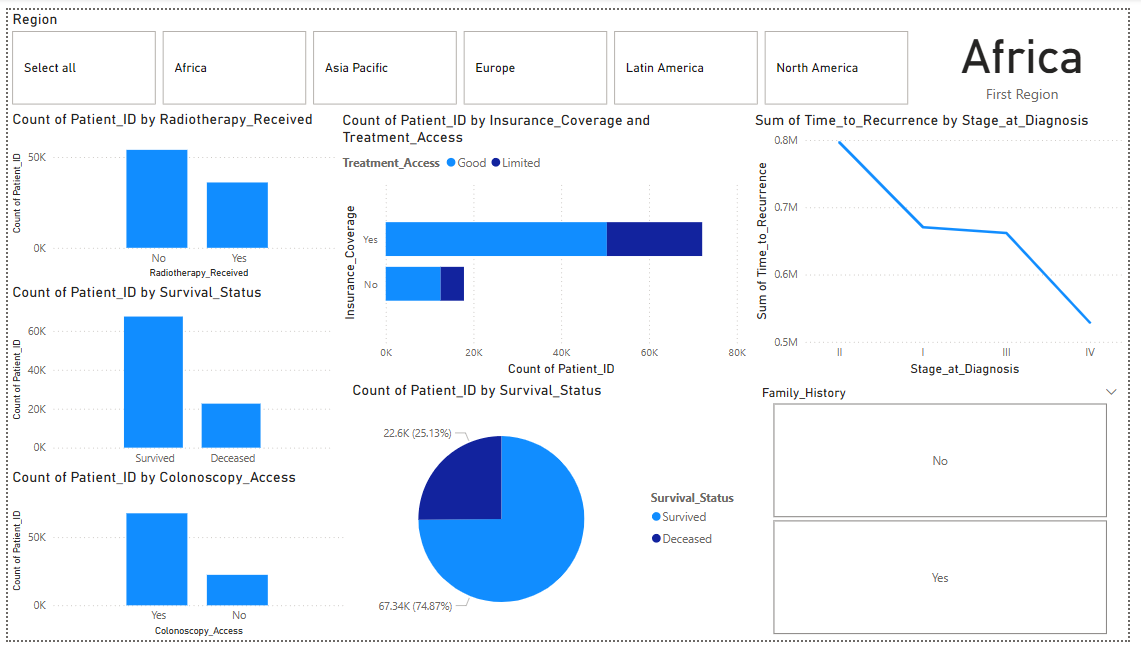

The dashboard page shown, as its layout file describes it:
{"tool":"powerbi","page":{"name":"Page 2","canvas":[1280,720],"ordinal":1},"visuals":[{"type":"card","fields":{"Values":["Min(colorectal_cancer_prediction.Region)"]},"box":[1038.8,0,241.2,113.8],"z":0},{"type":"advancedSlicerVisual","fields":{"Values":["colorectal_cancer_prediction.Region"]},"box":[0,0,1038.8,113.8],"z":1000},{"type":"clusteredColumnChart","fields":{"Y":["CountNonNull(colorectal_cancer_prediction.Patient_ID)"],"Category":["colorectal_cancer_prediction.Radiotherapy_Received"]},"box":[0,113.8,388.8,197.5],"z":2000},{"type":"clusteredColumnChart","fields":{"Y":["CountNonNull(colorectal_cancer_prediction.Patient_ID)"],"Category":["colorectal_cancer_prediction.Survival_Status"]},"box":[0,311.2,377.5,228.8],"z":3000},{"type":"clusteredColumnChart","fields":{"Y":["CountNonNull(colorectal_cancer_prediction.Patient_ID)"],"Category":["colorectal_cancer_prediction.Colonoscopy_Access"]},"box":[0,522.5,388.8,197.5],"z":4000},{"type":"barChart","fields":{"Y":["CountNonNull(colorectal_cancer_prediction.Patient_ID)"],"Category":["colorectal_cancer_prediction.Insurance_Coverage"],"Series":["colorectal_cancer_prediction.Treatment_Access"]},"box":[377.5,116.2,471.2,307.5],"z":5000},{"type":"pieChart","fields":{"Y":["CountNonNull(colorectal_cancer_prediction.Patient_ID)"],"Category":["colorectal_cancer_prediction.Survival_Status"]},"box":[388.8,423.8,460,296.2],"z":6000},{"type":"lineChart","fields":{"Category":["colorectal_cancer_prediction.Stage_at_Diagnosis"],"Y":["Sum(colorectal_cancer_prediction.Time_to_Recurrence)"]},"box":[848.8,116.2,431.2,307.5],"z":7000},{"type":"slicer","fields":{"Values":["colorectal_cancer_prediction.Family_History"]},"box":[849,424,431,296],"z":8000}]}

Visuals, with their boxes in screenshot pixels (x1, y1, x2, y2), scaled from the page's 1280x720 canvas onto the 1141x650 screenshot:
card - Min(colorectal_cancer_prediction.Region): box(926, 0, 1140, 103)
advancedSlicerVisual - colorectal_cancer_prediction.Region: box(0, 0, 926, 103)
clusteredColumnChart - CountNonNull(colorectal_cancer_prediction.Patient_ID) x colorectal_cancer_prediction.Radiotherapy_Received: box(0, 103, 347, 281)
clusteredColumnChart - CountNonNull(colorectal_cancer_prediction.Patient_ID) x colorectal_cancer_prediction.Survival_Status: box(0, 281, 337, 488)
clusteredColumnChart - CountNonNull(colorectal_cancer_prediction.Patient_ID) x colorectal_cancer_prediction.Colonoscopy_Access: box(0, 472, 347, 649)
barChart - CountNonNull(colorectal_cancer_prediction.Patient_ID) x colorectal_cancer_prediction.Insurance_Coverage: box(337, 105, 757, 383)
pieChart - CountNonNull(colorectal_cancer_prediction.Patient_ID) x colorectal_cancer_prediction.Survival_Status: box(347, 383, 757, 649)
lineChart - colorectal_cancer_prediction.Stage_at_Diagnosis x Sum(colorectal_cancer_prediction.Time_to_Recurrence): box(757, 105, 1140, 383)
slicer - colorectal_cancer_prediction.Family_History: box(757, 383, 1140, 649)
